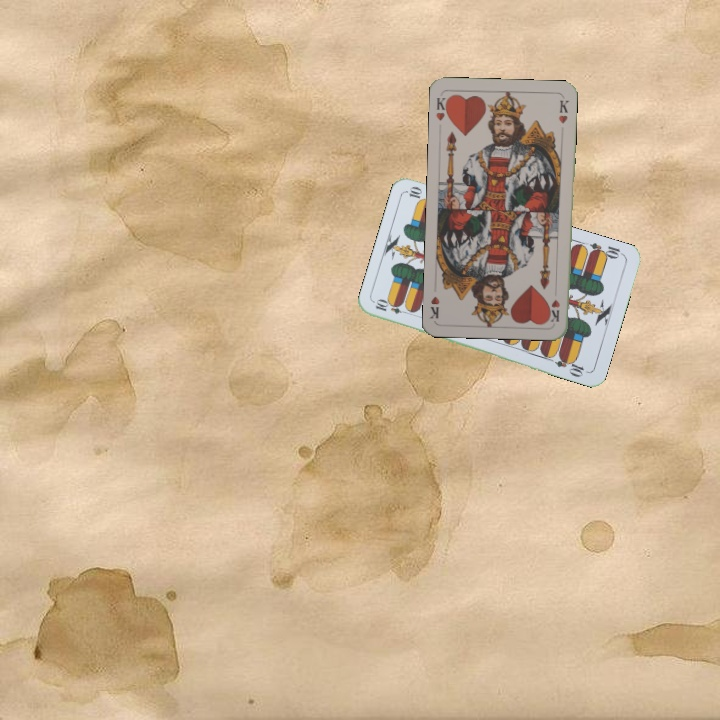E10: (586, 239, 626, 262), (371, 297, 412, 317)
HK: (432, 93, 452, 123), (546, 295, 562, 324)
